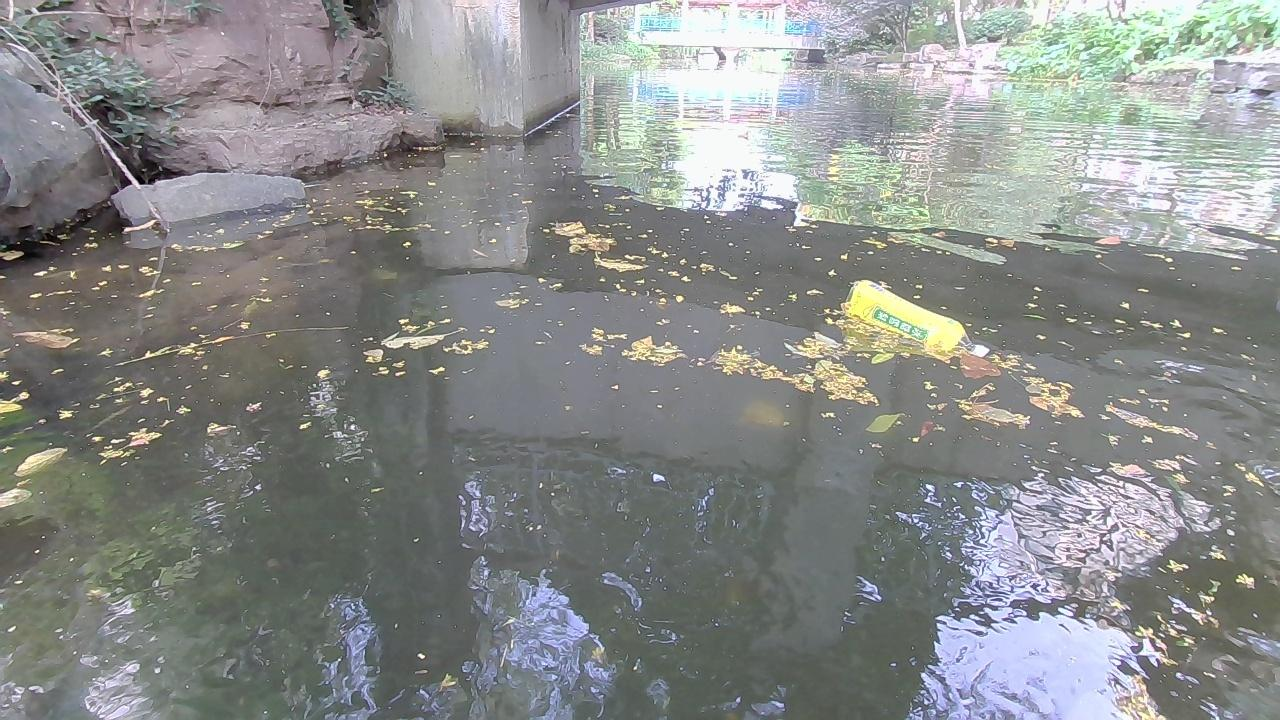bottle: (839, 278, 996, 367)
